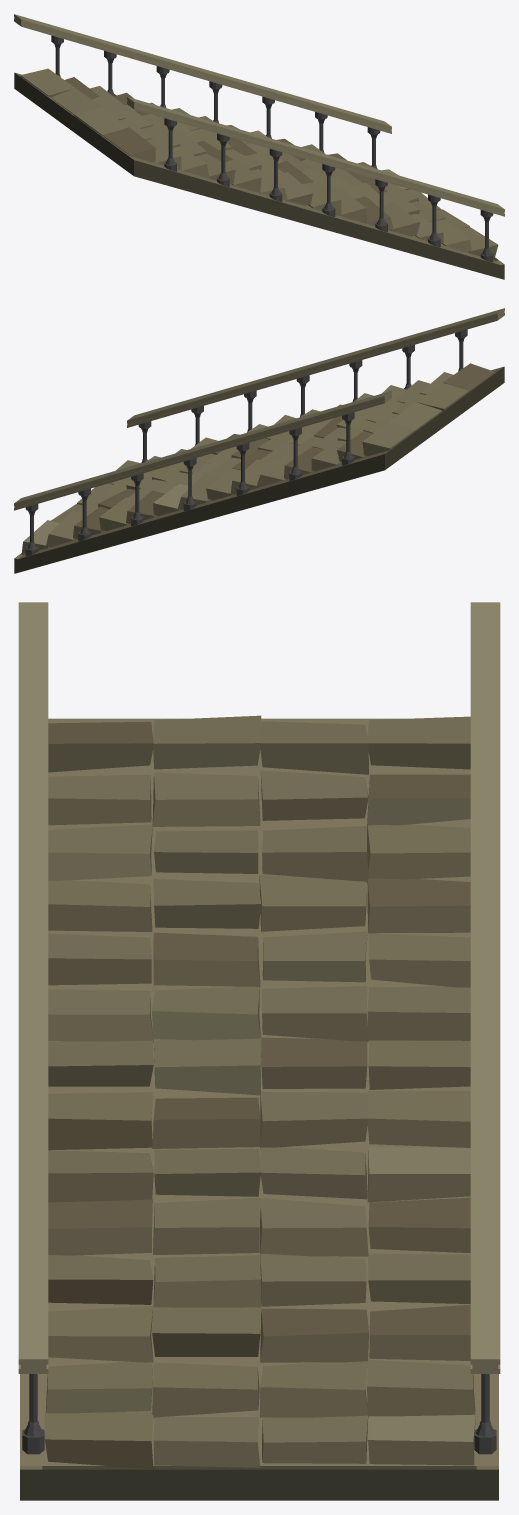
Rendered from StairsFull.fbx.
3 renders of one model, top to bottom at view 1: azimuth 30°, elevation 25°; view 2: azimuth 150°, elevation 25°; view 3: azimuth 270°, elevation 25°, orthographic. The views are drawn at different scales.
Parts seen in each view (by area): view 1: Stairs; view 2: Stairs; view 3: Stairs.
Boxes of the visible parts, x1,y1,x2,y2 form: Stairs: (14,14,504,279); Stairs: (14,308,504,573); Stairs: (18,602,500,1500).
Bounding box in the file's own units: 400 × 277 × 225.
